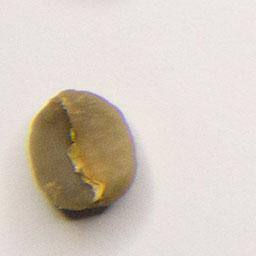premium: (25, 85, 141, 215)
